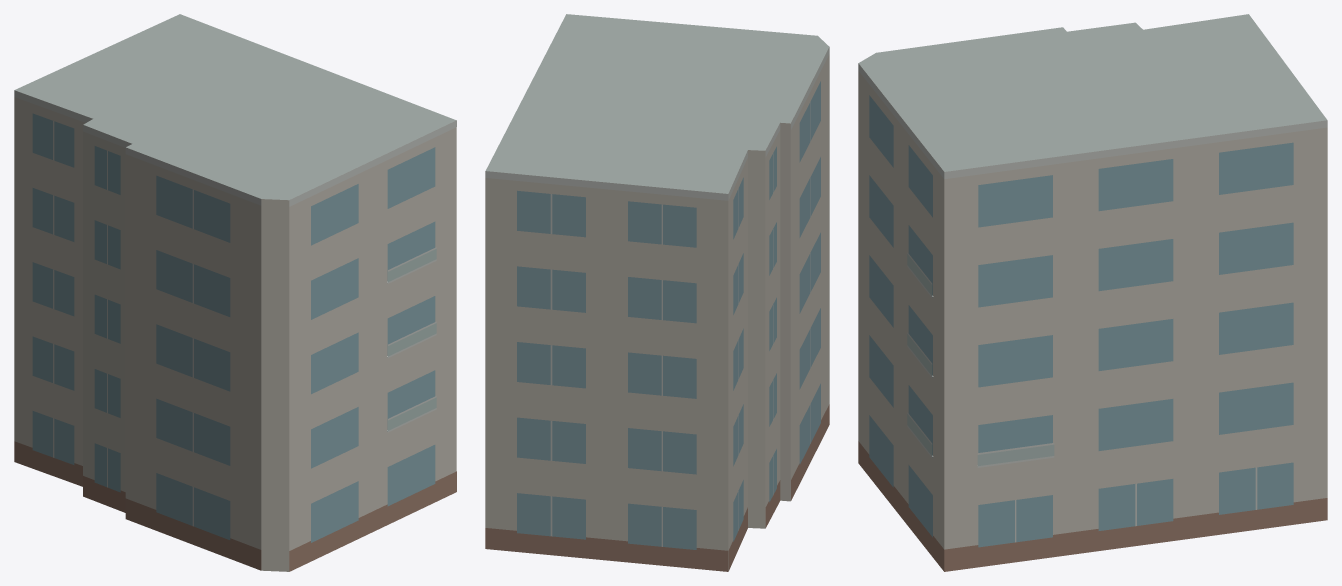
File: survey-upis-32941120.glb
3 views of the same model, side by side, from view 1: azimuth 30°, elevation 25°; view 2: azimuth 150°, elevation 25°; view 3: azimuth 270°, elevation 25° (orthographic). The views are drawn at different scales.
Parts seen in each view (by area): view 1: survey-upis-32941120.tmp; view 2: survey-upis-32941120.tmp; view 3: survey-upis-32941120.tmp.
Part boxes in pixels (x1=…): survey-upis-32941120.tmp: x1=14, y1=14, x2=456, y2=571; survey-upis-32941120.tmp: x1=485, y1=14, x2=829, y2=571; survey-upis-32941120.tmp: x1=858, y1=14, x2=1327, y2=571.
Size of the model in its own units: 11.36 by 13.4 by 14.26.
